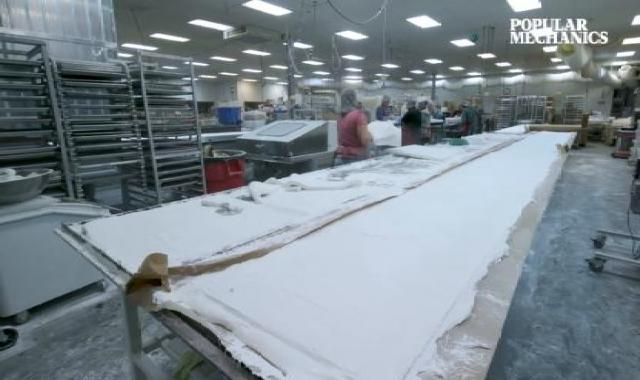hairnet: (332, 86, 367, 119)
